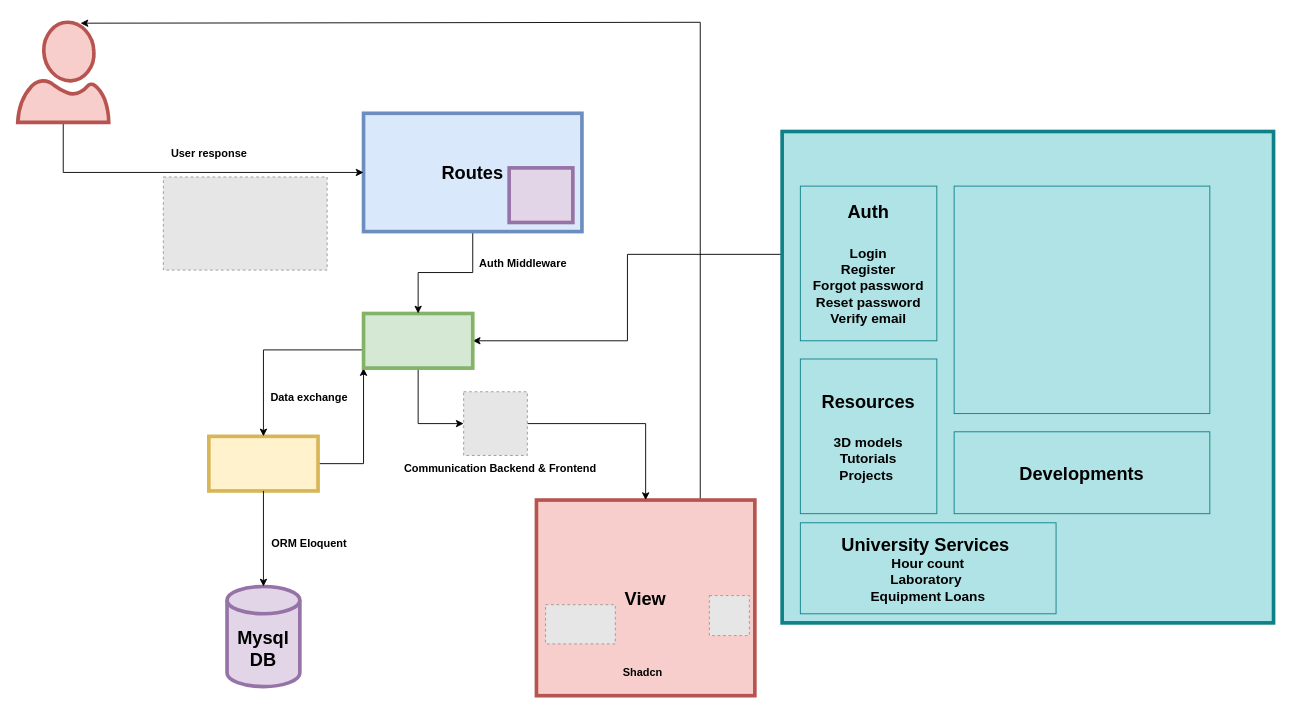
The diagram is 1290 pixels wide and 713 high, and some of its shapes have lost their labels. Grey dashed boxes stand in for pictures. The shapes that lost their labels are listed below. From the top down, each one's centre as x and y in pixels, then its label:
At (x=540, y=195): "Auth Settings Web".
At (x=1081, y=299): "Admin Users by role Laboratory assistant Equipment control".
At (x=417, y=340): "Controller".
At (x=263, y=463): "Model".
